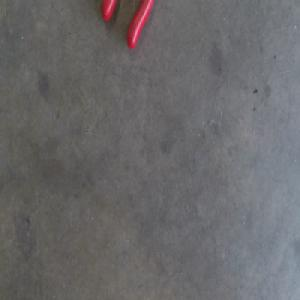Pliers: (100, 0, 154, 49)
